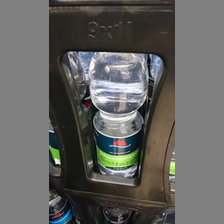water: (85, 53, 148, 177)
